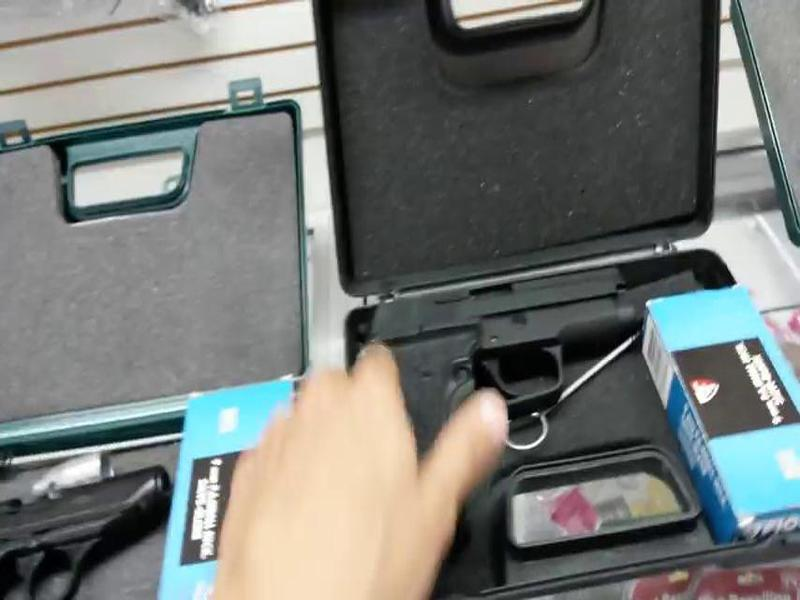Pistola: (361, 244, 645, 544)
